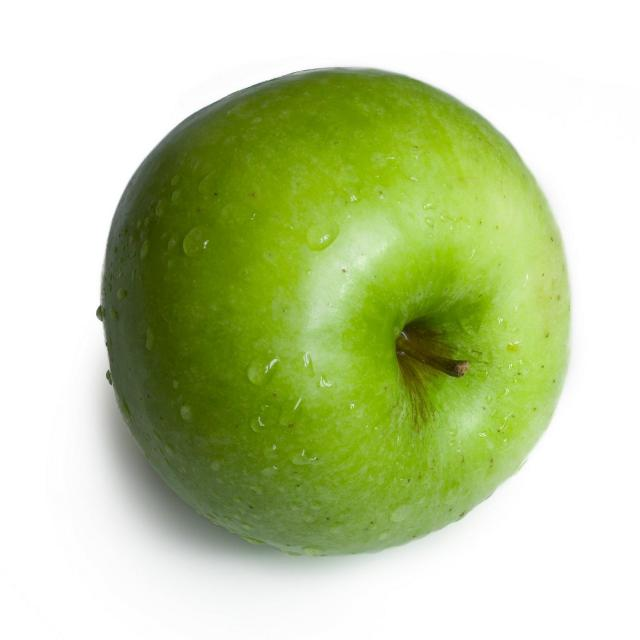Apple: (90, 61, 580, 566)
